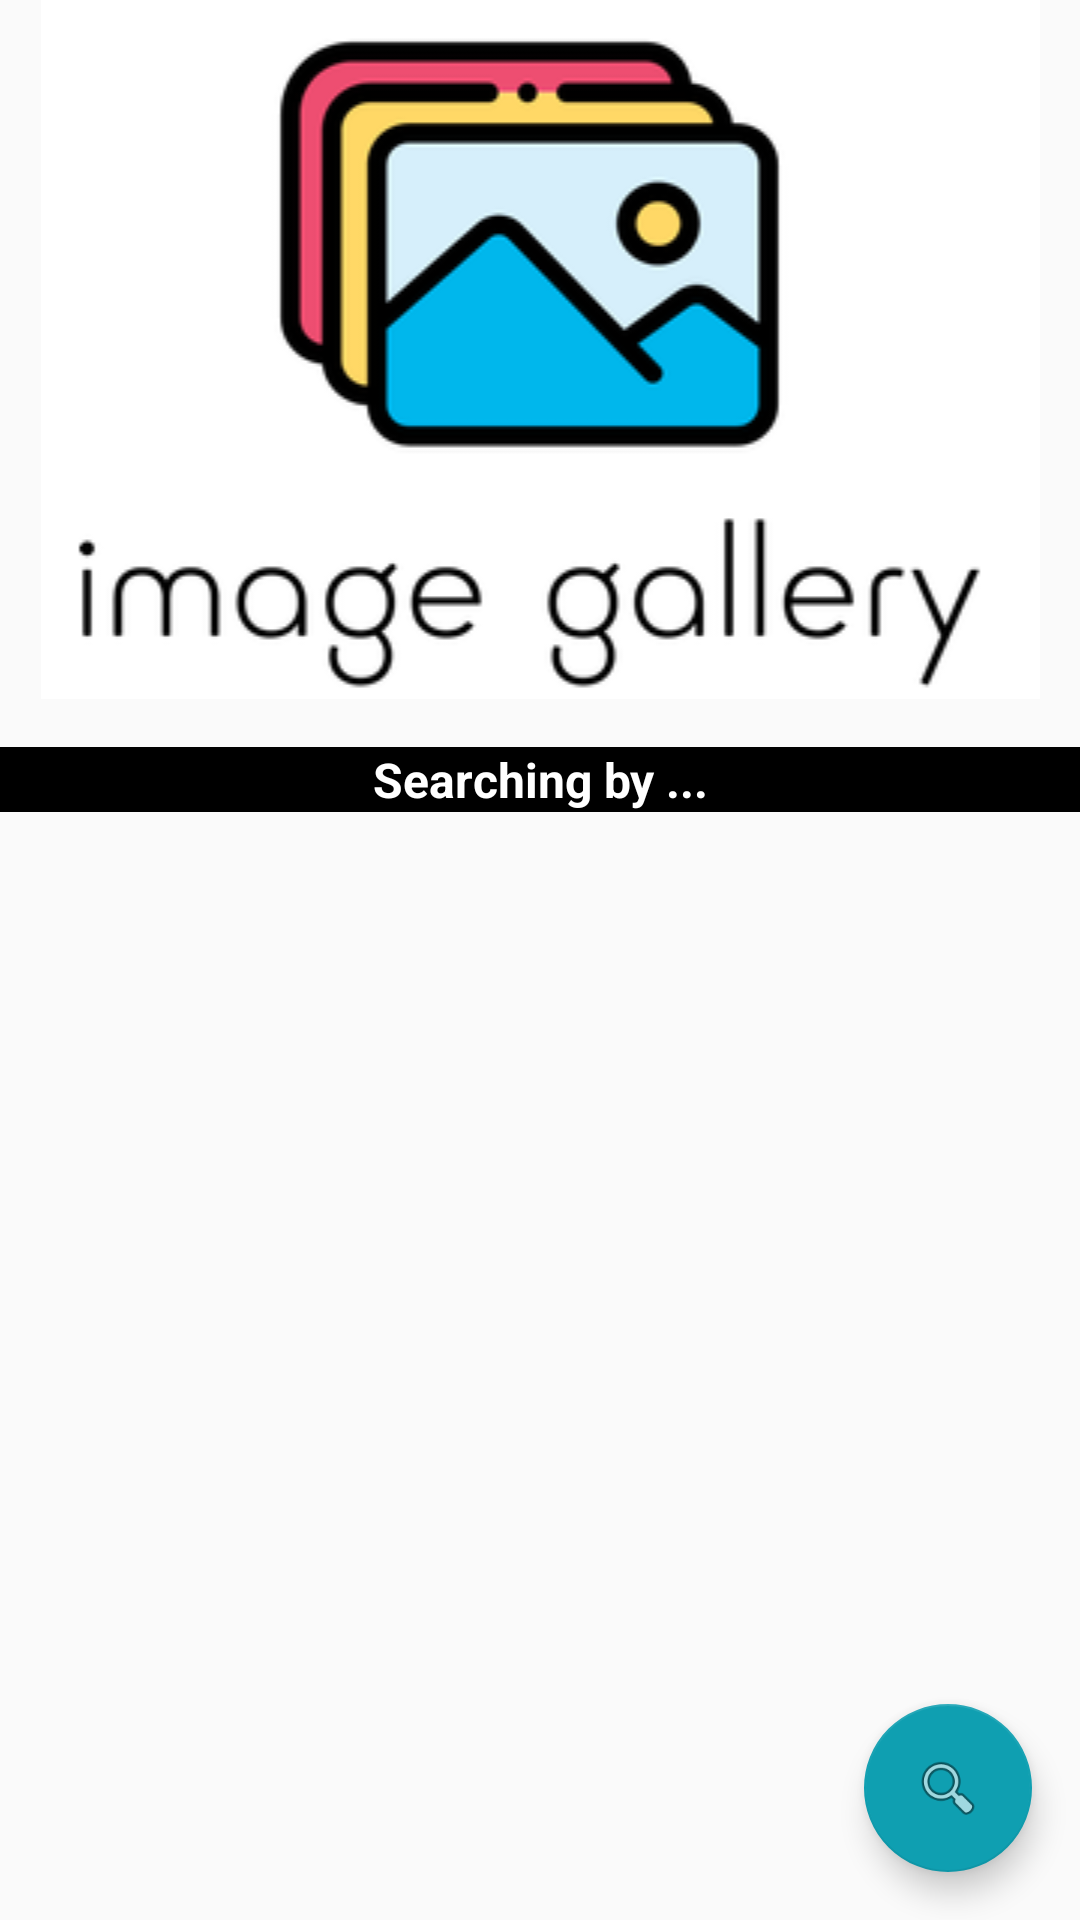

Screen size 1080px×1920px. Icon name, then its center in pixels as (x=x, y=y):
search: (x=948, y=1788)
